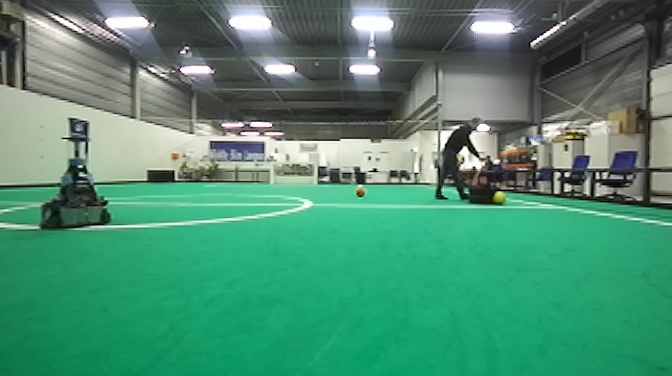ball: (493, 189, 508, 206), (354, 184, 367, 199)
goal: (270, 163, 319, 187)
goalpost: (269, 163, 276, 186), (313, 162, 319, 187)
human: (434, 116, 492, 201)
robot: (36, 113, 114, 233), (468, 157, 498, 207)
